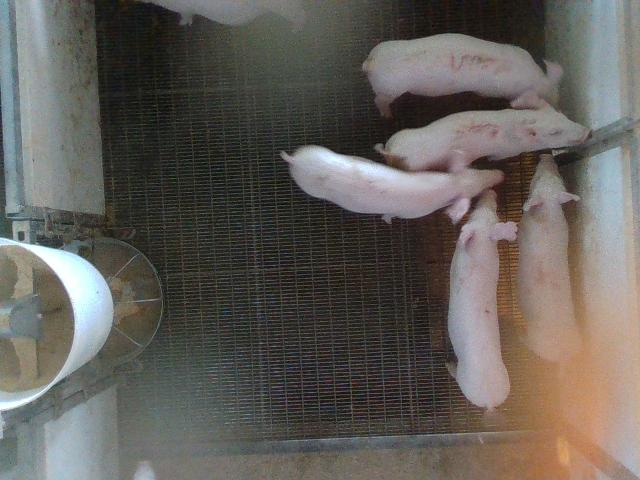pig-3: (362, 34, 562, 116)
pig-4: (516, 154, 581, 361)
pig-5: (375, 108, 589, 172)
